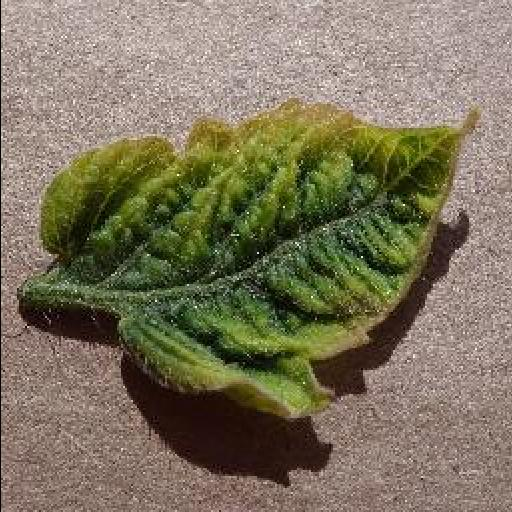disease_tomato: (38, 102, 484, 420)
